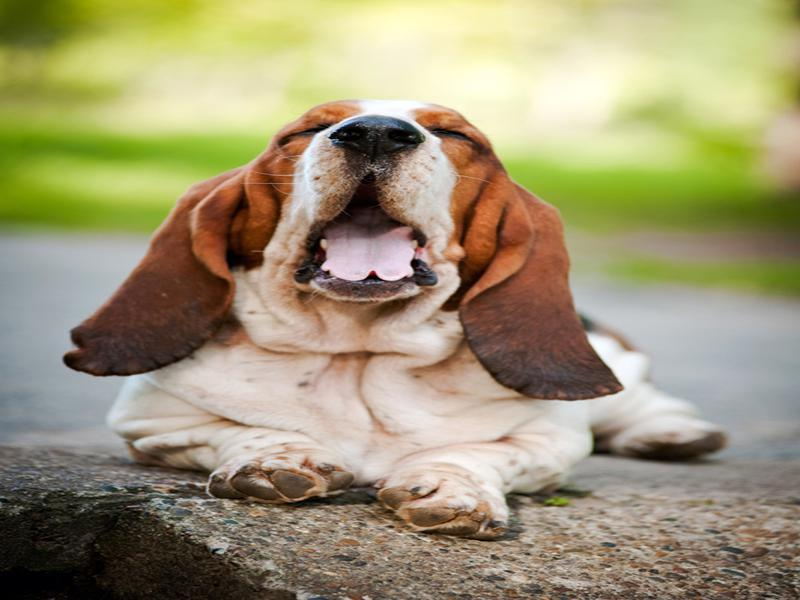dog_down: (57, 93, 741, 532)
